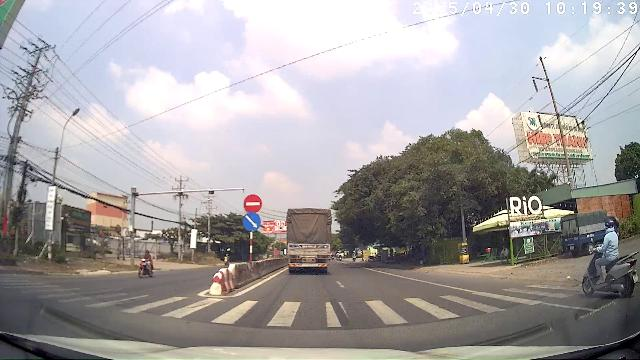102-cam-di-nguoc-chieu: (243, 194, 263, 213)
302a-huong-phai-di-vong-chuong-ngai-vat-1: (242, 212, 261, 232)
